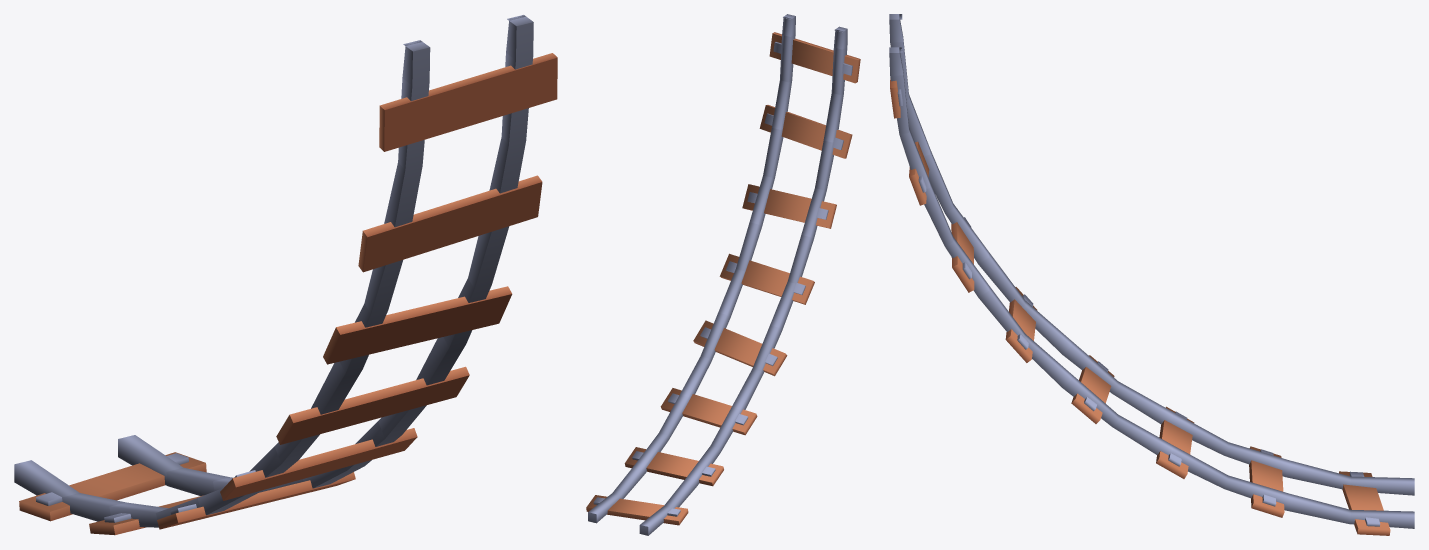
The model's file is railroad-damaged-straight-bend-large.glb.
3 views of the same model, side by side, from view 1: azimuth 30°, elevation 25°; view 2: azimuth 150°, elevation 25°; view 3: azimuth 270°, elevation 25° (orthographic). The views are drawn at different scales.
Parts seen in each view (by area): view 1: railroad-damaged-straight-bend-large; view 2: railroad-damaged-straight-bend-large; view 3: railroad-damaged-straight-bend-large.
Boxes of the visible parts, bbox=[...] form: railroad-damaged-straight-bend-large: bbox=[14, 15, 557, 535]; railroad-damaged-straight-bend-large: bbox=[586, 14, 860, 535]; railroad-damaged-straight-bend-large: bbox=[889, 14, 1414, 535].
Bounding box in the file's own units: 1.03 × 4 × 4.
